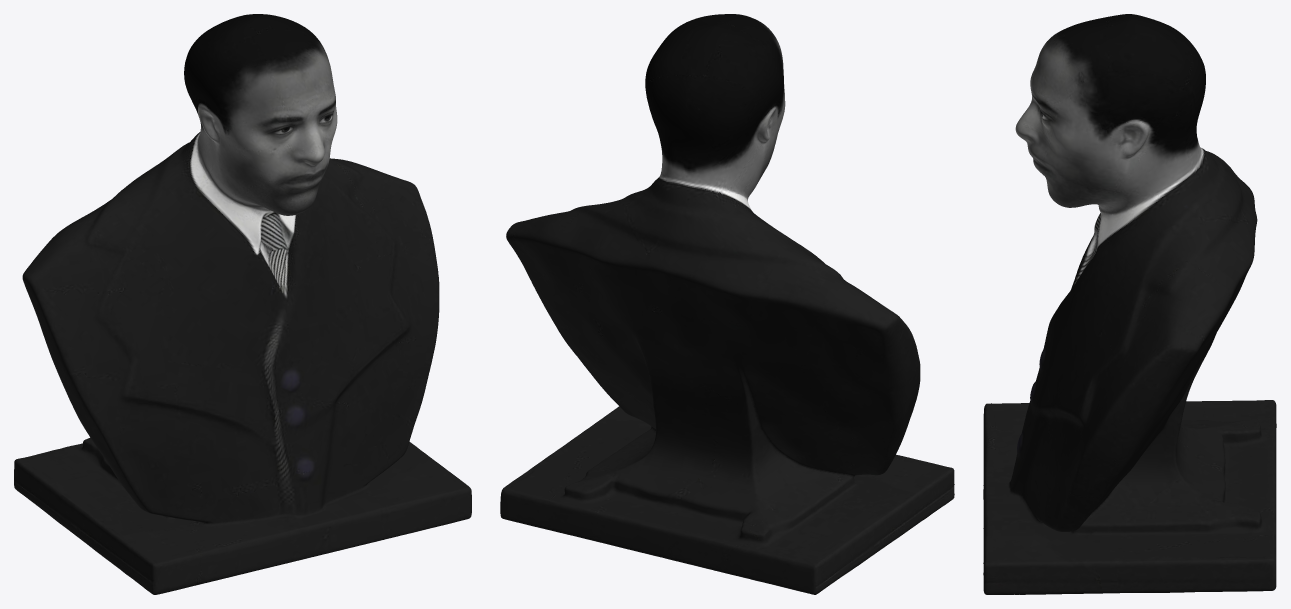
File: real one.glb
3 views of the same model, side by side, from view 1: azimuth 30°, elevation 25°; view 2: azimuth 150°, elevation 25°; view 3: azimuth 270°, elevation 25° (orthographic). The views are drawn at different scales.
Size of the model in its own units: 1.59 by 1.9 by 1.
1 material, 1 textured.
